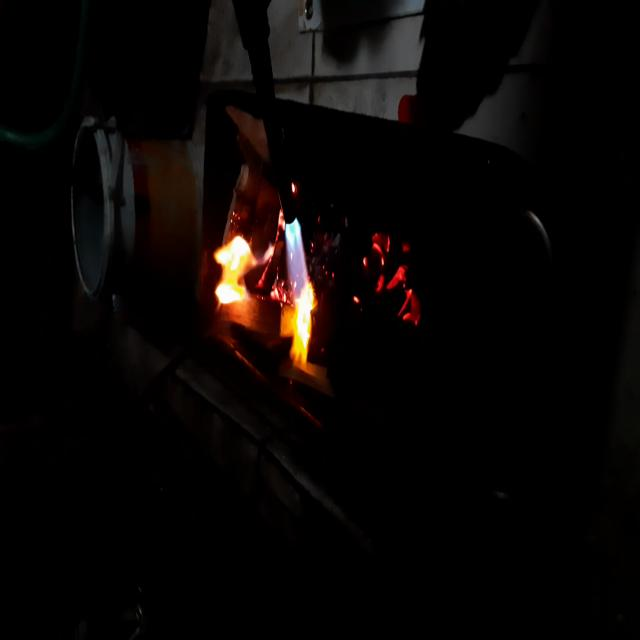Fire: (196, 172, 324, 395), (352, 212, 427, 347)
